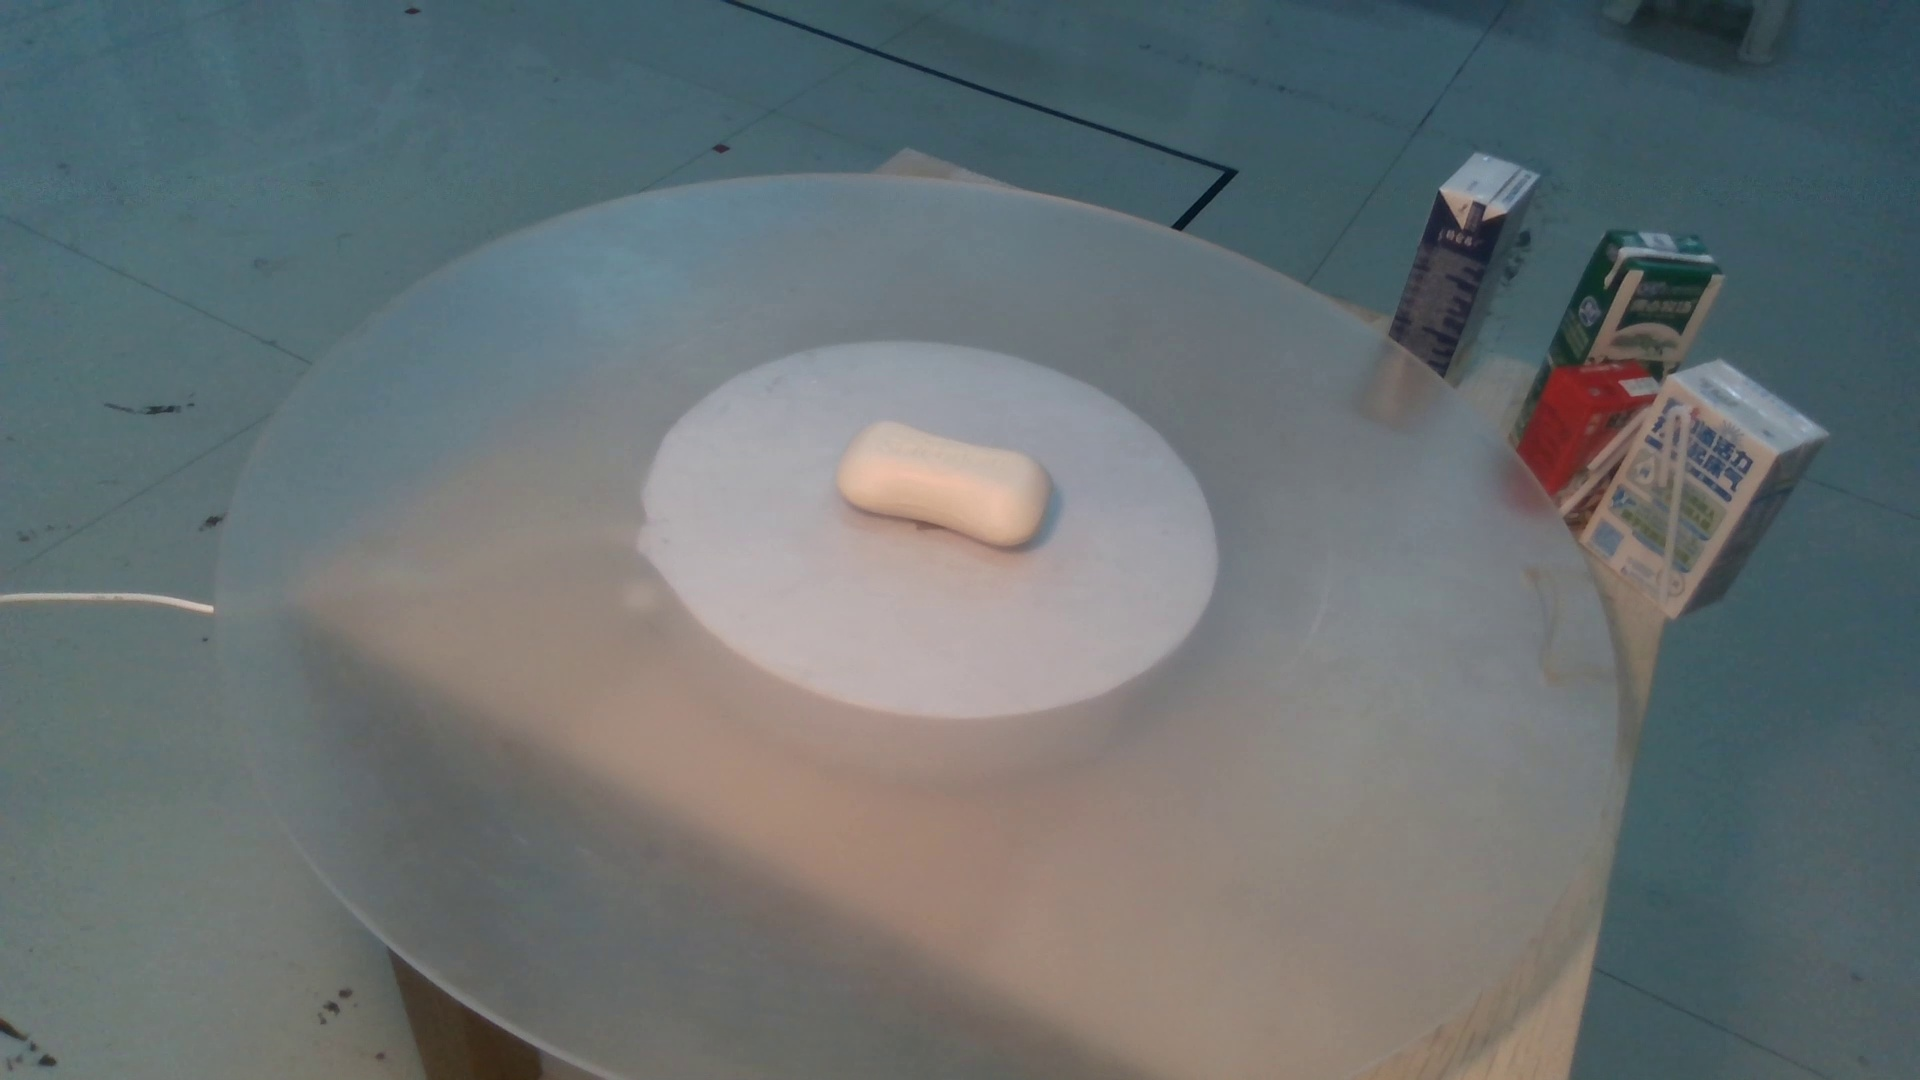CA003_1: (828, 389, 1104, 578)
